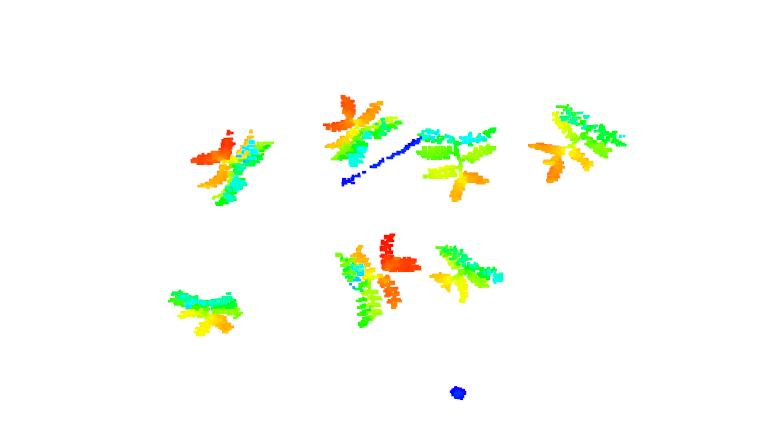chickpea: (335, 230, 422, 329), (530, 102, 626, 188), (413, 120, 500, 206), (189, 128, 275, 209), (320, 91, 402, 169), (429, 246, 504, 302), (164, 287, 244, 337)
